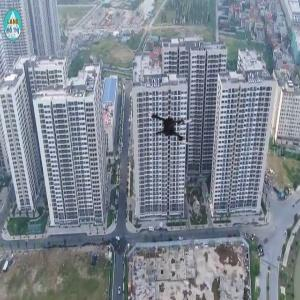drone: (147, 98, 202, 153)
